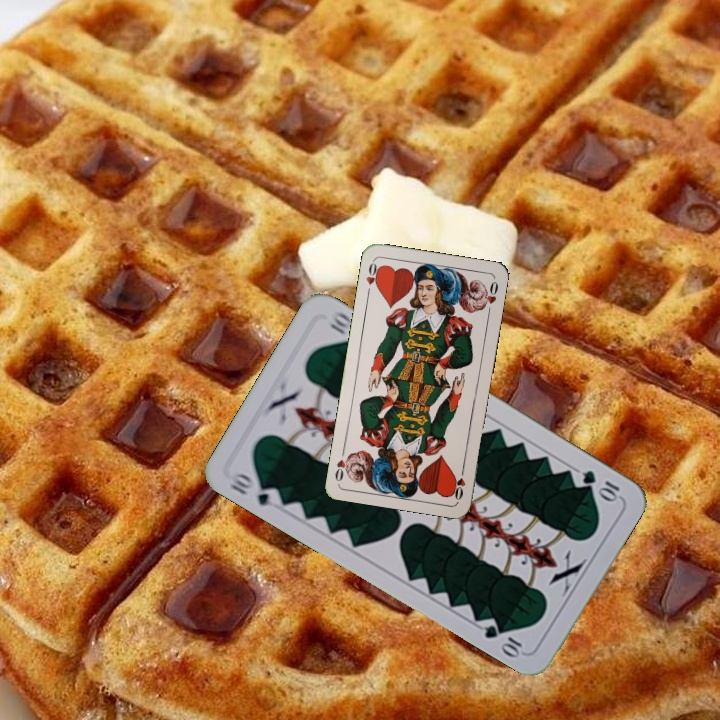G10: (225, 467, 284, 509), (577, 466, 623, 504)
HO: (362, 257, 383, 297), (449, 462, 468, 503)
